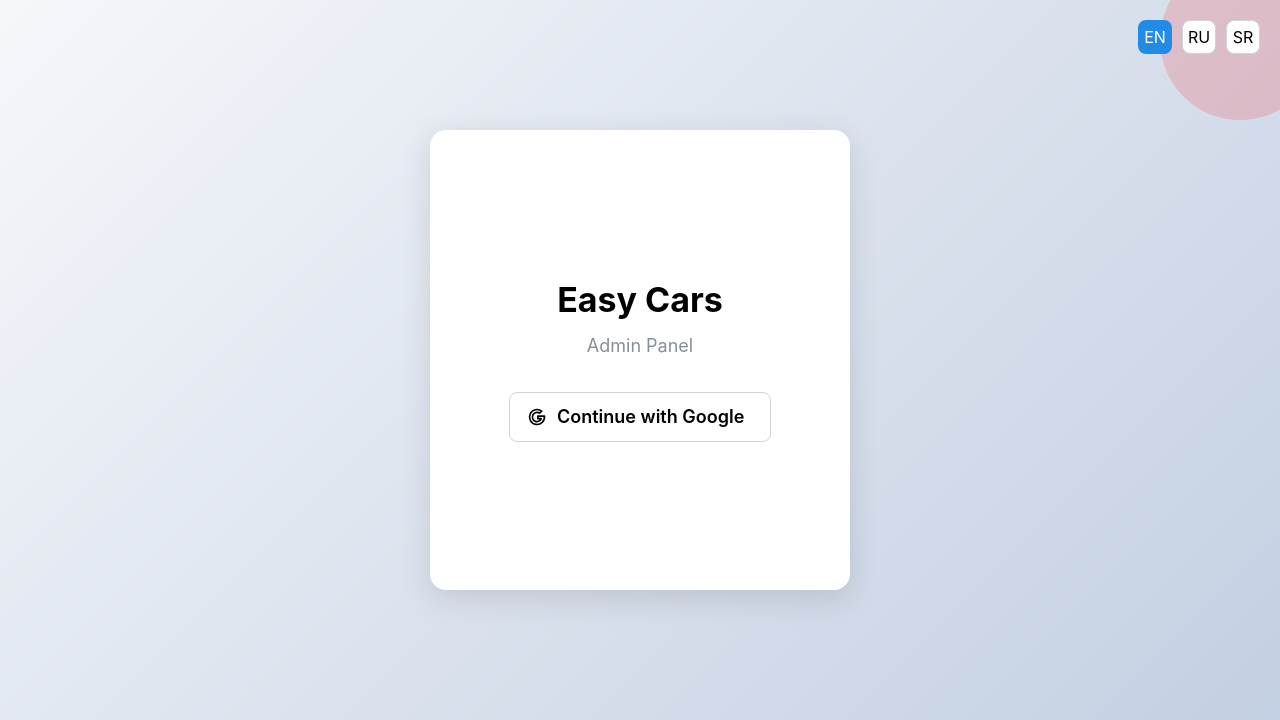
it: LoginScreen › shows success message after loading timeout
Click the button with test id "login-google-button": (640, 418) [509,392,771,442]
Wait 2000 ms
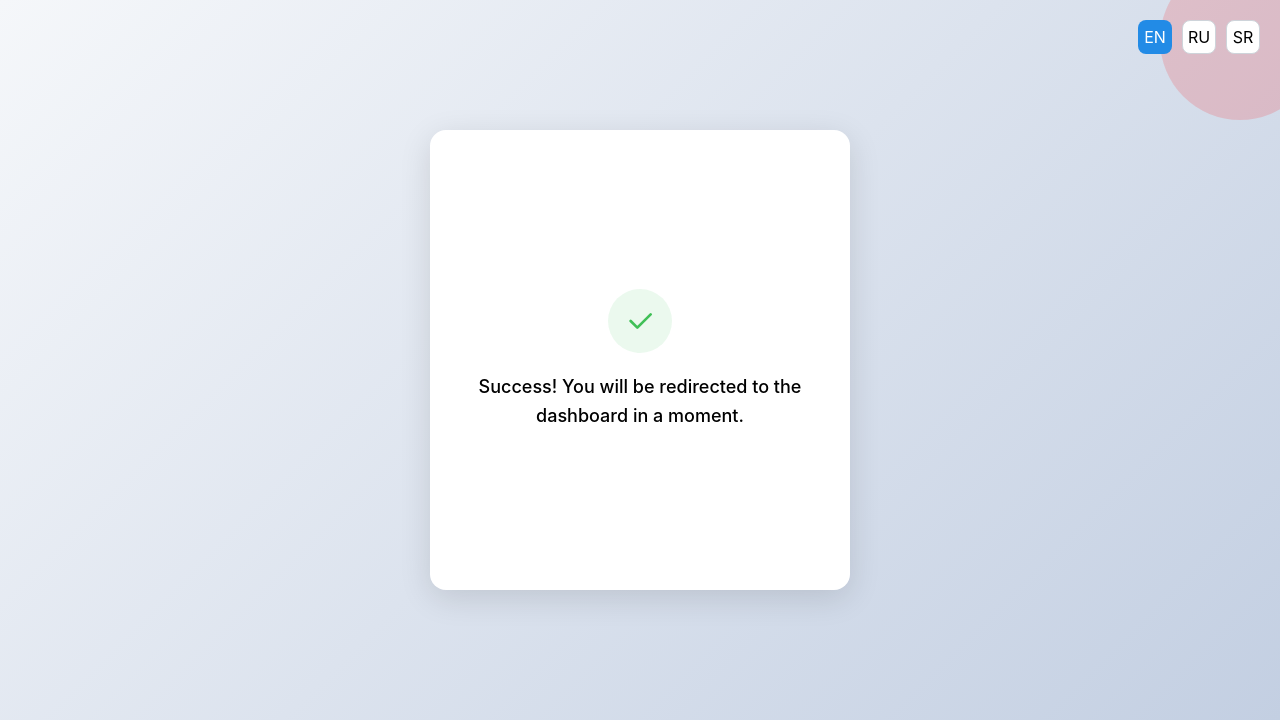
Now the element with test id "login-success-message" is shown, box [470,289,810,431]
